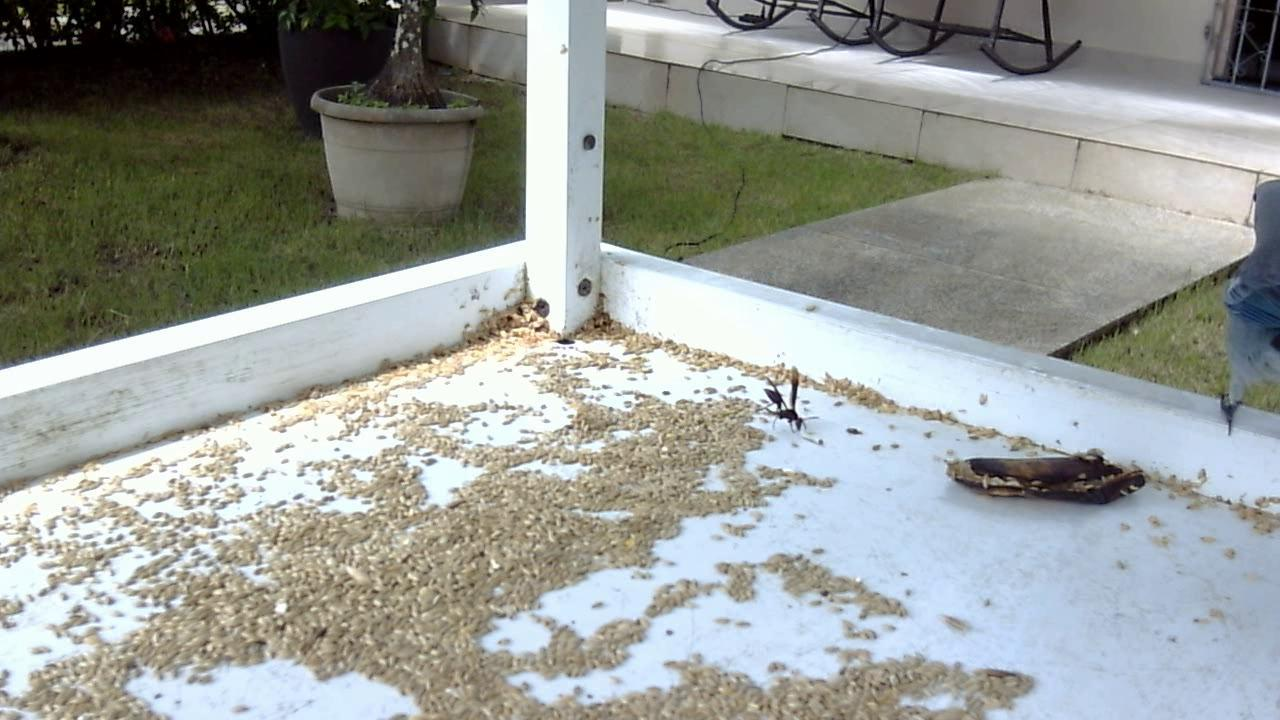sanhaco_da_amazonia: (1204, 163, 1280, 450)
